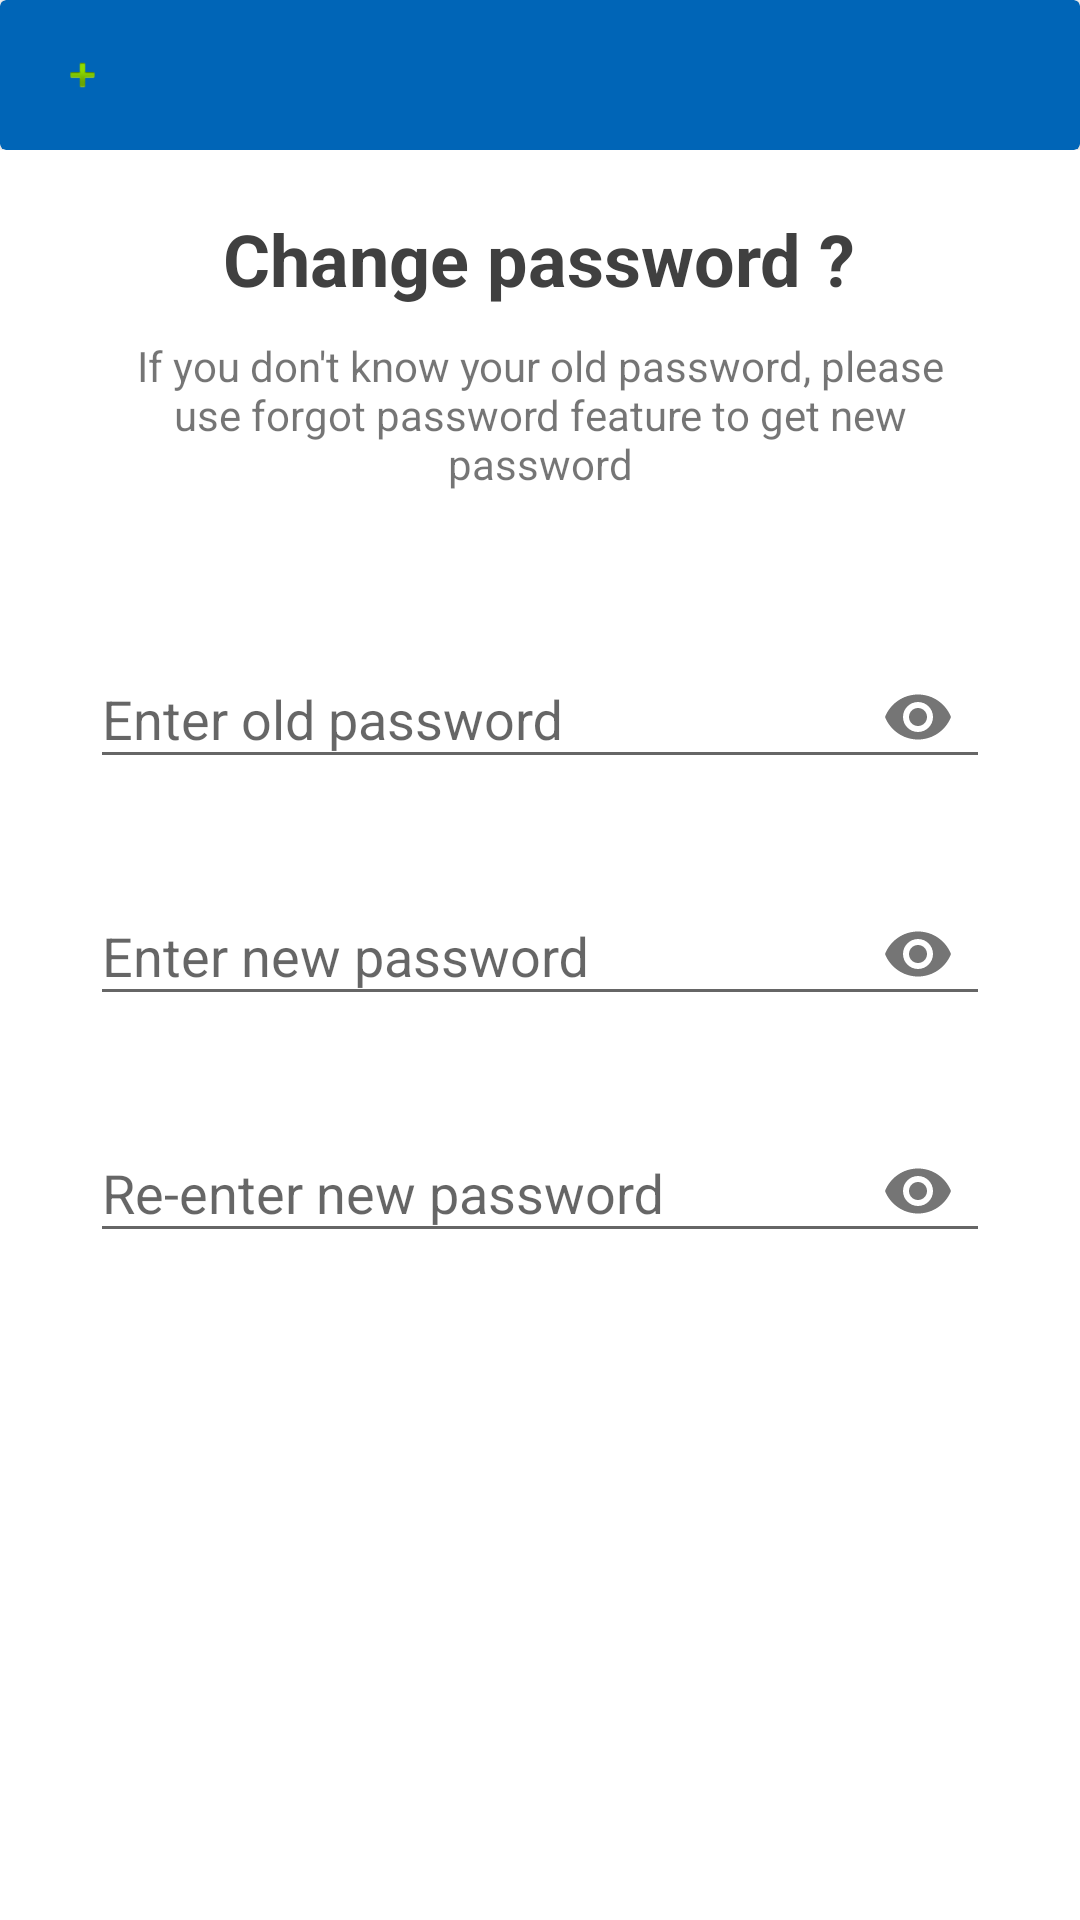

Point at icon controls on the screen. Image size 1080*1920, points as point (x, y).
add: point (82, 75)
